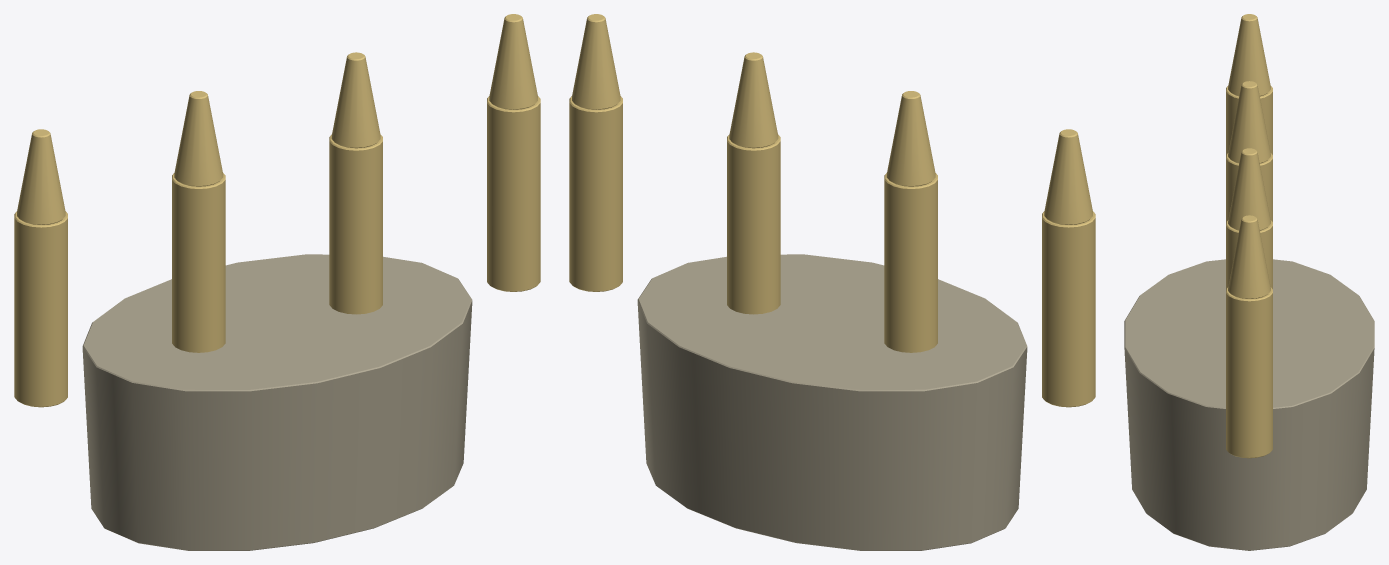
File: IT_ammo_556.fbx
3 views of the same model, side by side, from view 1: azimuth 30°, elevation 25°; view 2: azimuth 150°, elevation 25°; view 3: azimuth 270°, elevation 25° (orthographic). The views are drawn at different scales.
Parts seen in each view (by area): view 1: IT_ammo_556; view 2: IT_ammo_556; view 3: IT_ammo_556.
Boxes of the visible parts, box(x1,y1,x2,y2) form: IT_ammo_556: box(14, 14, 540, 550); IT_ammo_556: box(569, 14, 1095, 550); IT_ammo_556: box(1124, 14, 1374, 550).
Bounding box in the file's own units: 0.66 × 0.5 × 0.315.
